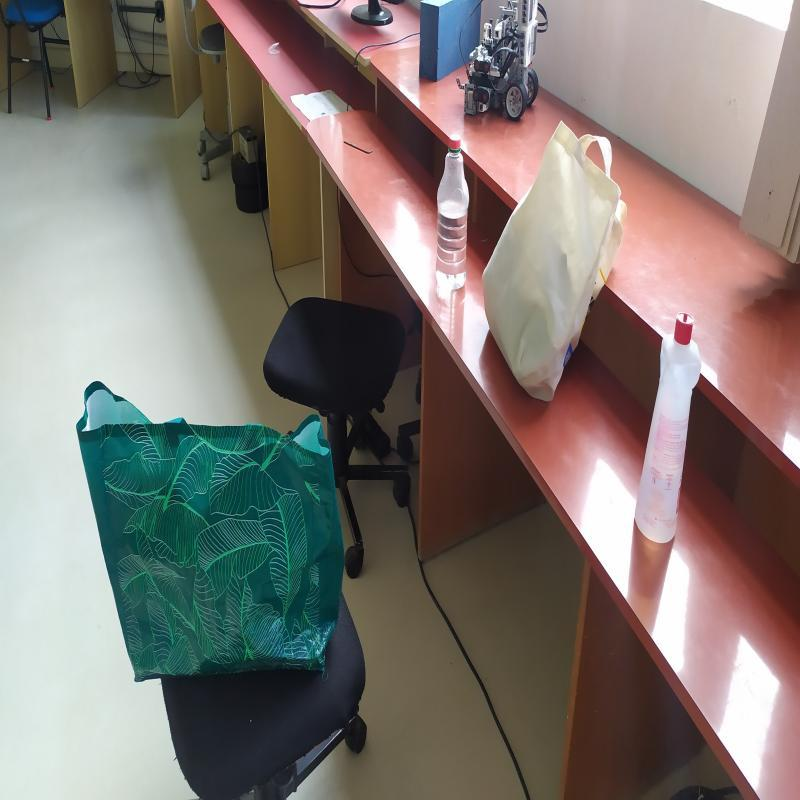Bag: (69, 385, 350, 677), (482, 116, 626, 408)
